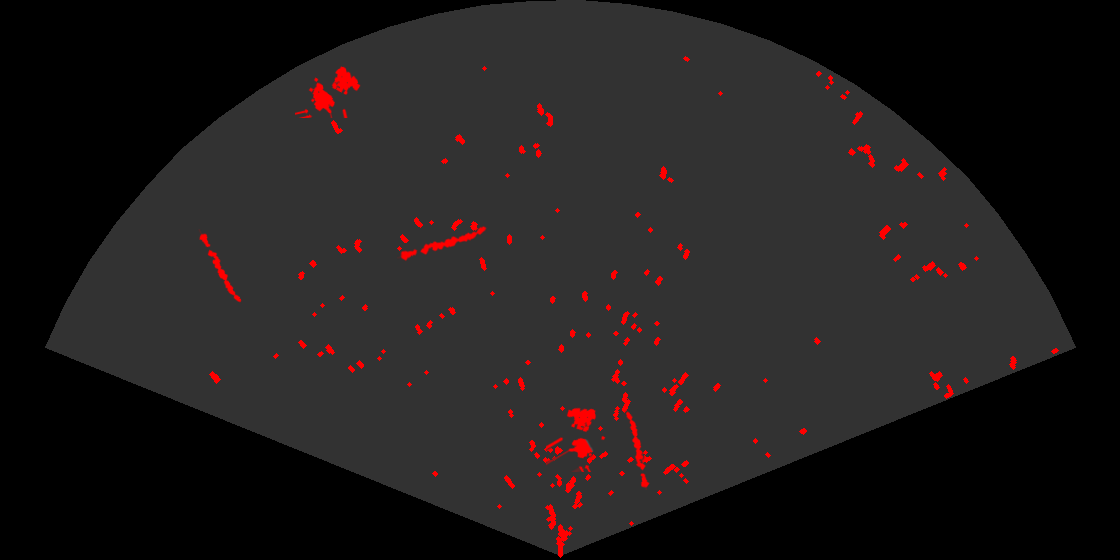cage: (546, 406, 607, 472), (295, 65, 362, 118)
chain: (397, 224, 489, 263), (197, 229, 243, 304), (624, 409, 651, 490)
